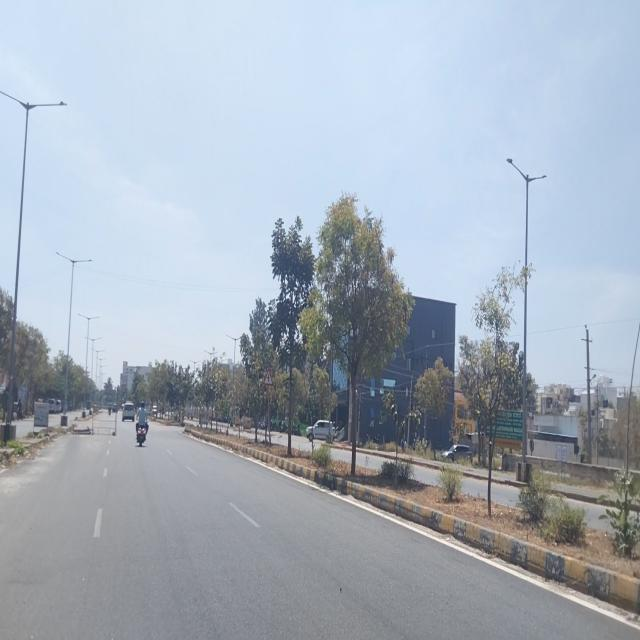bien_cam: (264, 368, 273, 385)
